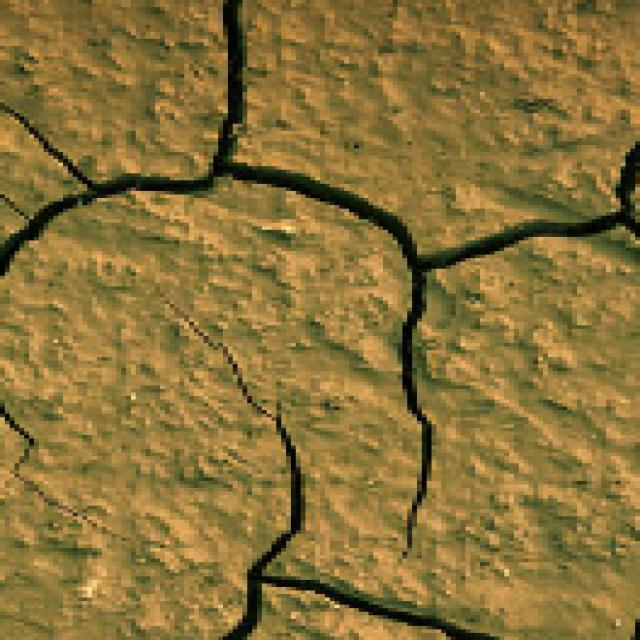branched cracks: (181, 315, 496, 639)
